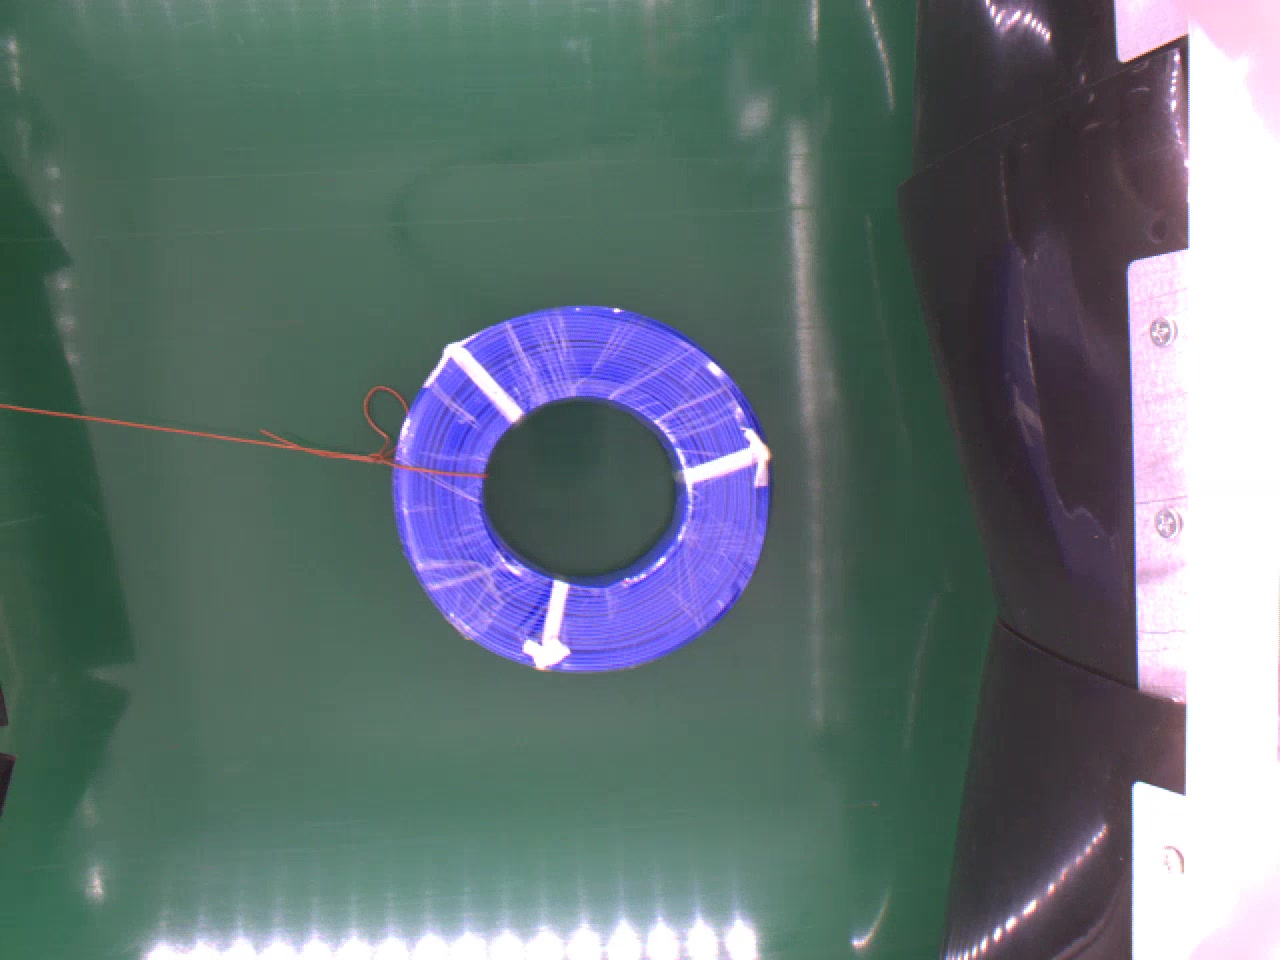blue: (392, 304, 774, 672)
